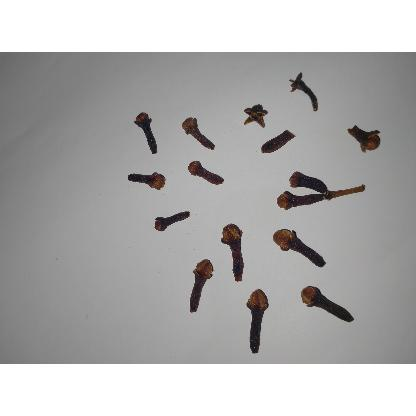baik: (271, 229, 325, 268), (300, 287, 355, 323), (219, 223, 244, 283), (246, 289, 269, 354), (189, 259, 215, 313), (277, 191, 324, 210)
buruk: (289, 73, 319, 112), (347, 126, 382, 153), (261, 131, 296, 155), (242, 104, 268, 128)
sedang: (180, 116, 214, 151), (133, 111, 158, 155), (188, 161, 225, 186), (289, 172, 328, 193), (154, 211, 191, 232), (127, 173, 168, 191)
